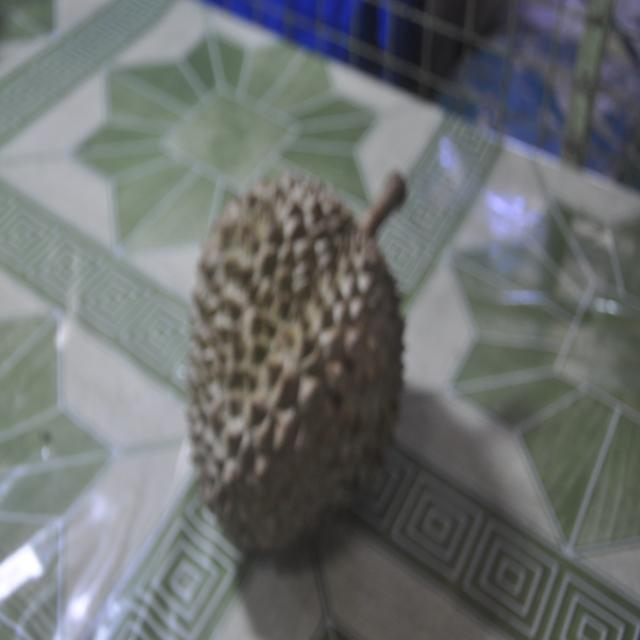mature: (152, 136, 446, 605)
